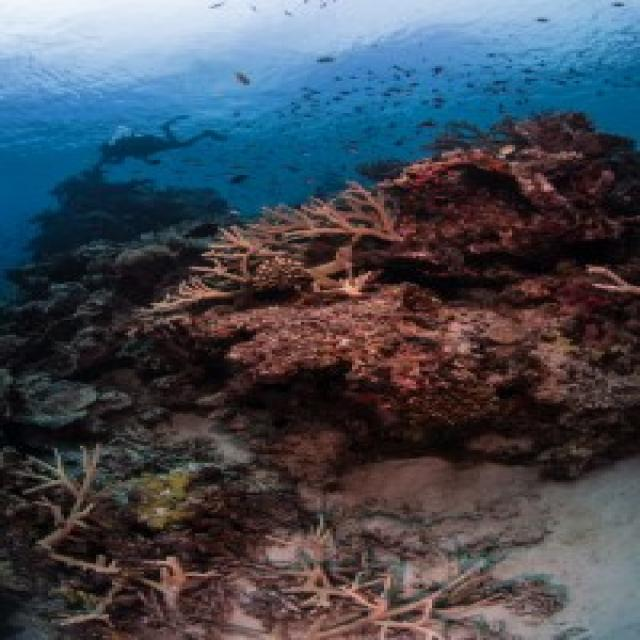Healthy: (177, 268, 638, 455), (7, 445, 212, 639), (395, 116, 638, 263), (148, 187, 401, 312), (270, 515, 503, 639), (196, 285, 436, 383), (347, 340, 497, 440), (4, 372, 148, 447), (247, 184, 404, 251), (526, 334, 635, 421), (142, 468, 190, 526)
